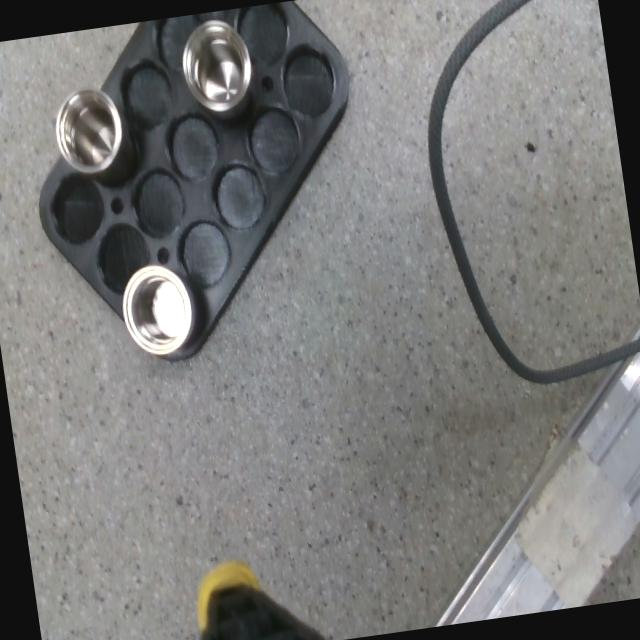sensor: (178, 15, 258, 121), (116, 259, 198, 359), (49, 84, 128, 180)
